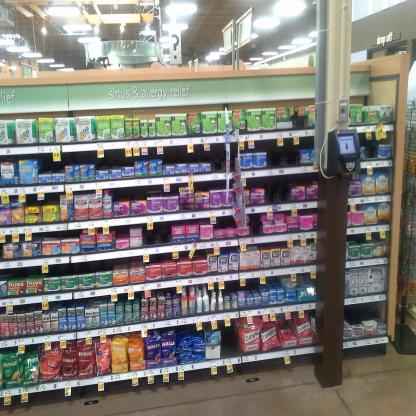Void: (269, 140, 297, 166), (162, 148, 224, 159), (220, 329, 240, 360), (96, 150, 129, 167), (143, 228, 168, 247), (268, 178, 288, 201), (62, 152, 92, 164), (42, 158, 64, 174), (364, 139, 379, 161), (215, 219, 235, 227), (250, 220, 260, 236)
